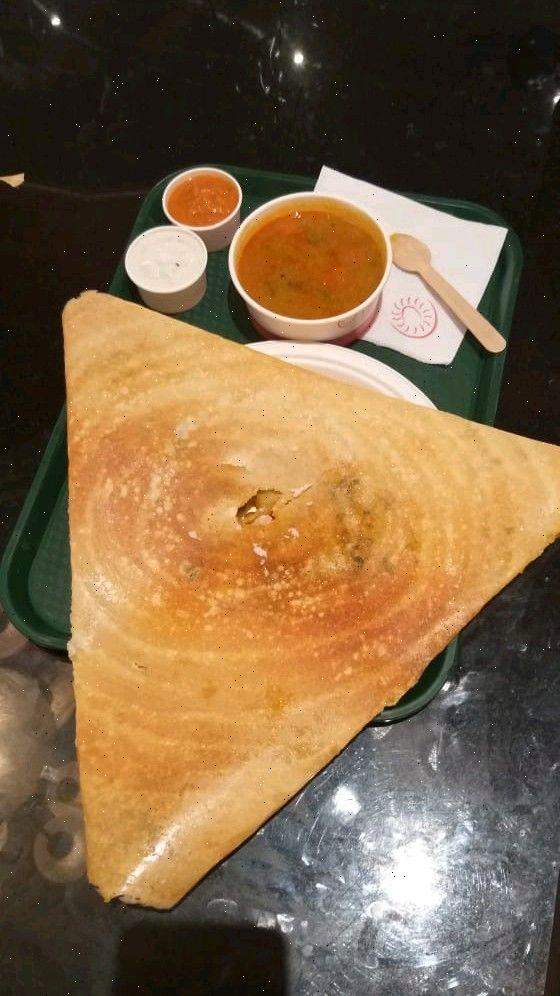dosa: (55, 304, 560, 918)
